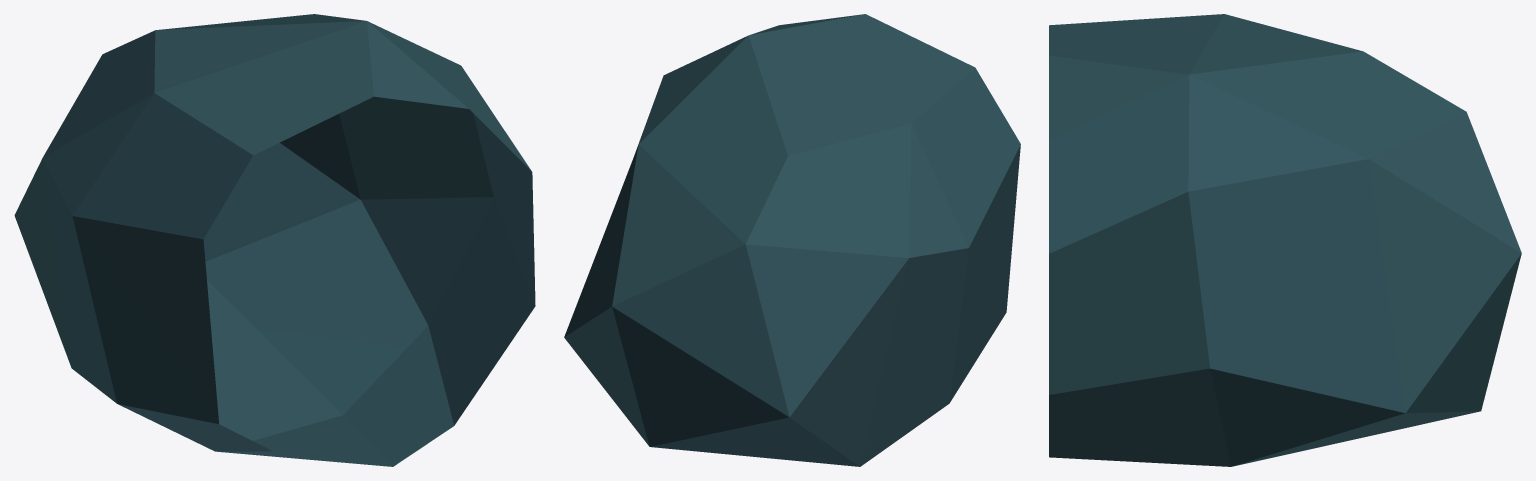
The model's file is Rock_1.fbx.
The picture shows the model from 3 angles, left to right: view 1: azimuth 30°, elevation 25°; view 2: azimuth 150°, elevation 25°; view 3: azimuth 270°, elevation 25°; orthographic projection. The views are drawn at different scales.
Parts seen in each view (by area): view 1: Rock_1.001; view 2: Rock_1.001; view 3: Rock_1.001.
Boxes of the visible parts, x1,y1,x2,y2 form: Rock_1.001: (14, 14, 535, 466); Rock_1.001: (564, 14, 1020, 466); Rock_1.001: (1049, 14, 1521, 466).
Size of the model in its own units: 1.45 by 1.32 by 1.41.
